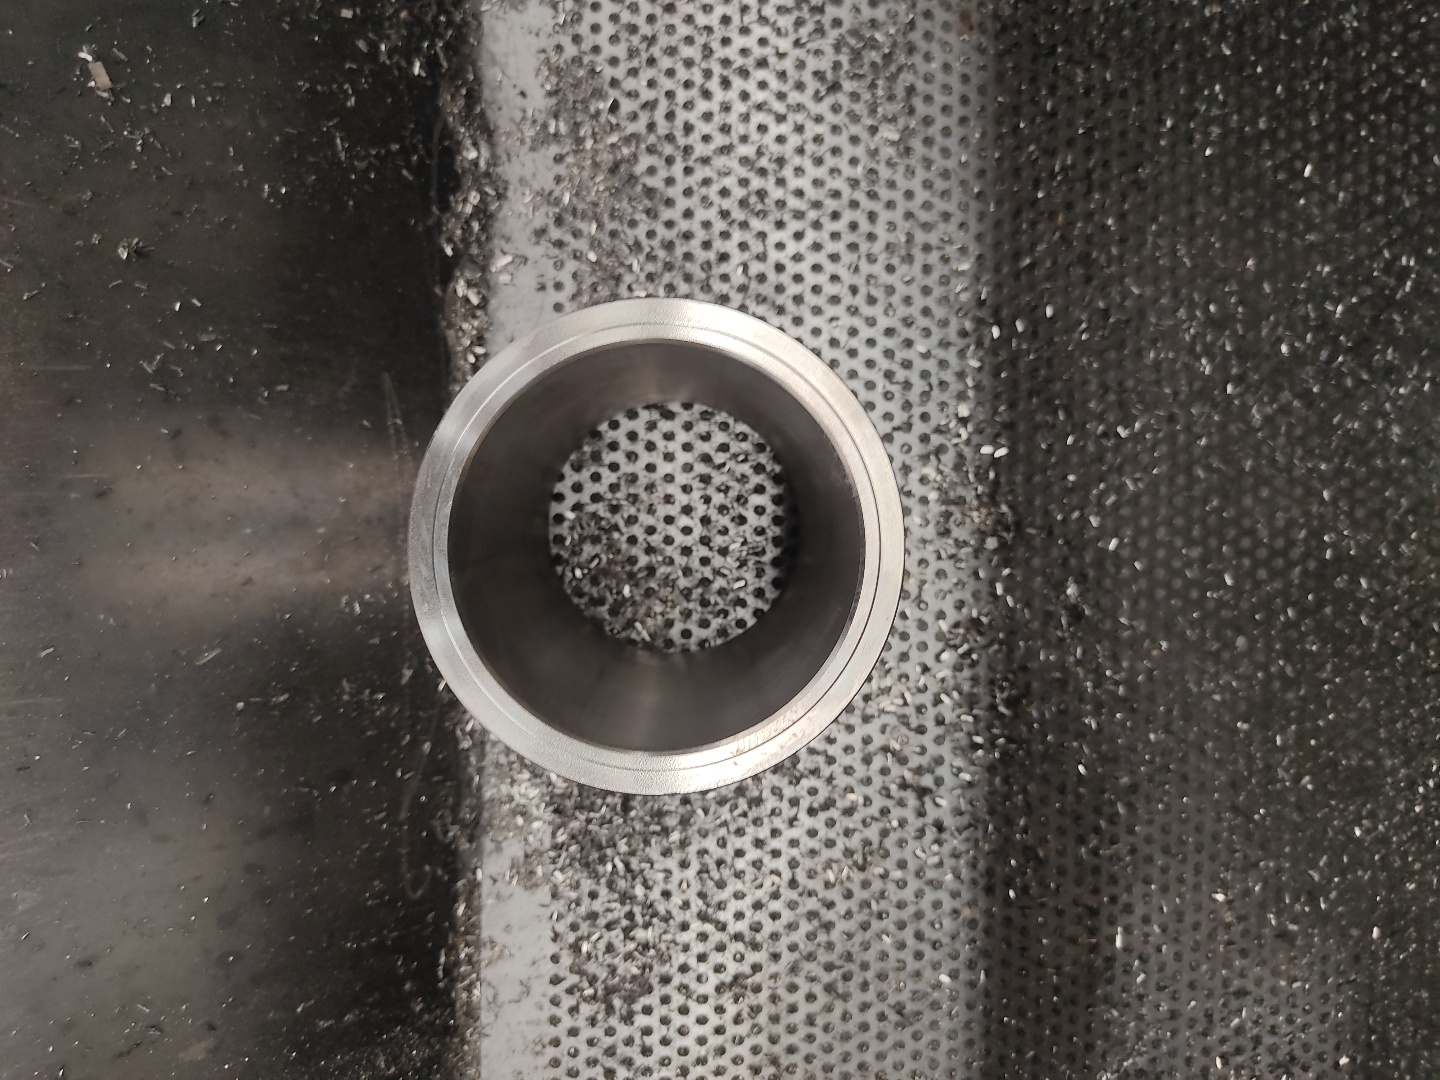cylinder: (403, 293, 910, 800)
